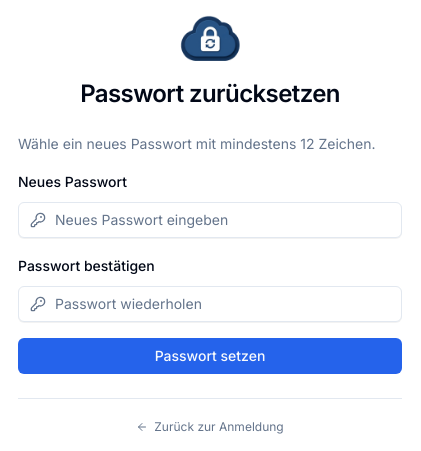
Test case: PasswordResetPage — confirm form (with token) › confirms the reset and shows the done message
Type "aaaaaaaaaaaa" into the password field labelled "Neues Passwort" at (210, 220), box x1=18 y1=202 x2=402 y2=238
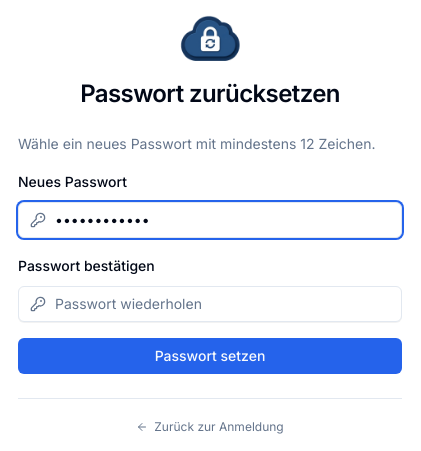
Type "aaaaaaaaaaaa" into the password field labelled "Passwort bestätigen" at (210, 304), box x1=18 y1=286 x2=402 y2=322
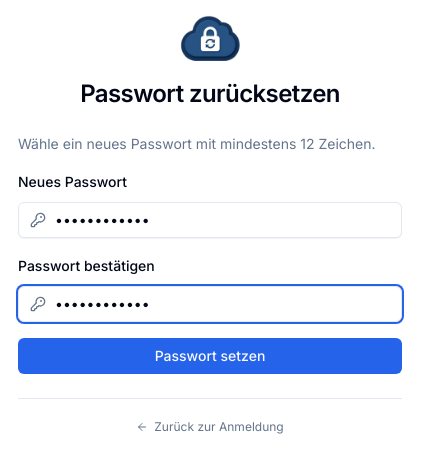
Click the button "Passwort setzen" at (210, 356), box x1=18 y1=338 x2=402 y2=374
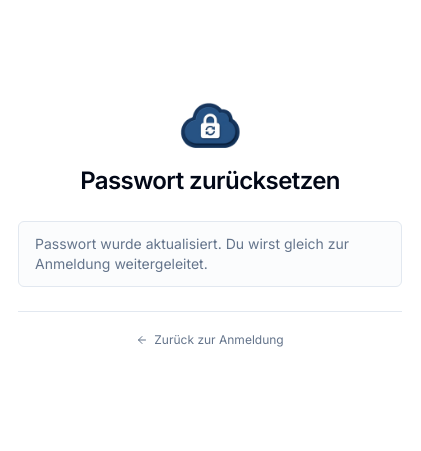
Result: the text "Passwort wurde aktualisiert" is shown at x1=35 y1=234 x2=349 y2=272
